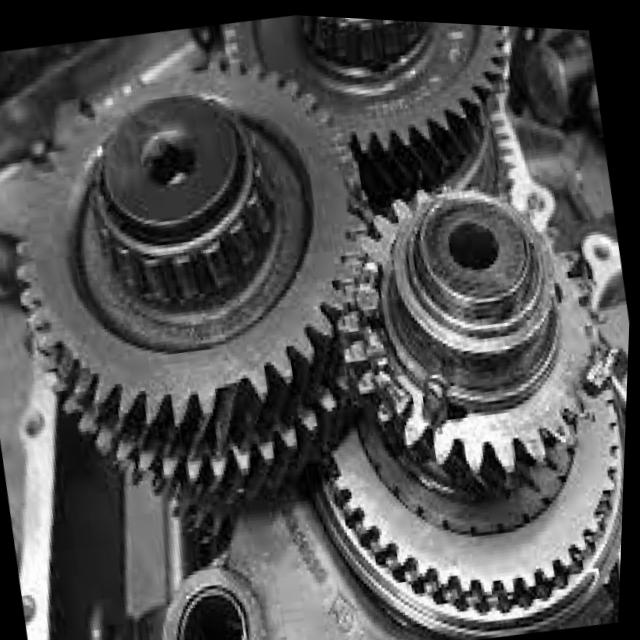Fault-Exist: (287, 197, 439, 492), (508, 262, 631, 510), (17, 267, 147, 461), (190, 352, 306, 462)
